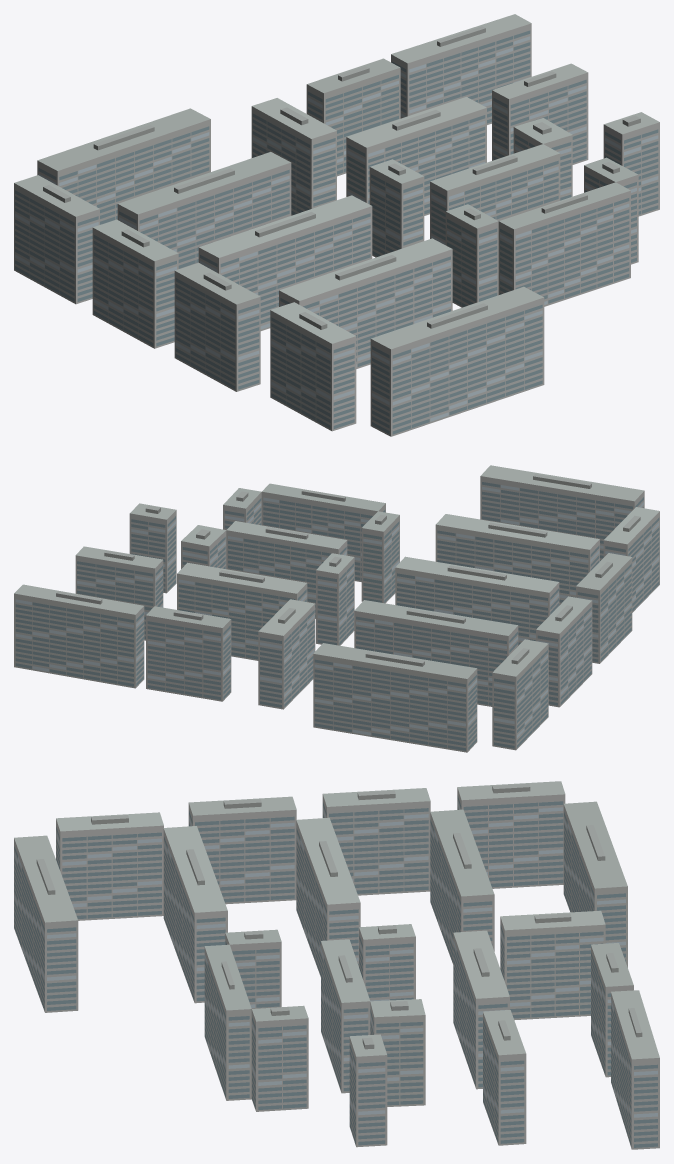
File: apt-a15805002.glb
3 renders of one model, top to bottom at view 1: azimuth 30°, elevation 25°; view 2: azimuth 150°, elevation 25°; view 3: azimuth 270°, elevation 25°, orthographic. The views are drawn at different scales.
Visible parts, largest first — view 1: apt-a15805002; view 2: apt-a15805002; view 3: apt-a15805002.
Boxes of the visible parts, box(x1,y1,x2,y2) form: apt-a15805002: box(14, 14, 659, 436); apt-a15805002: box(14, 465, 659, 752); apt-a15805002: box(14, 781, 659, 1149).
Size of the model in its own units: 258 by 41 by 254.
